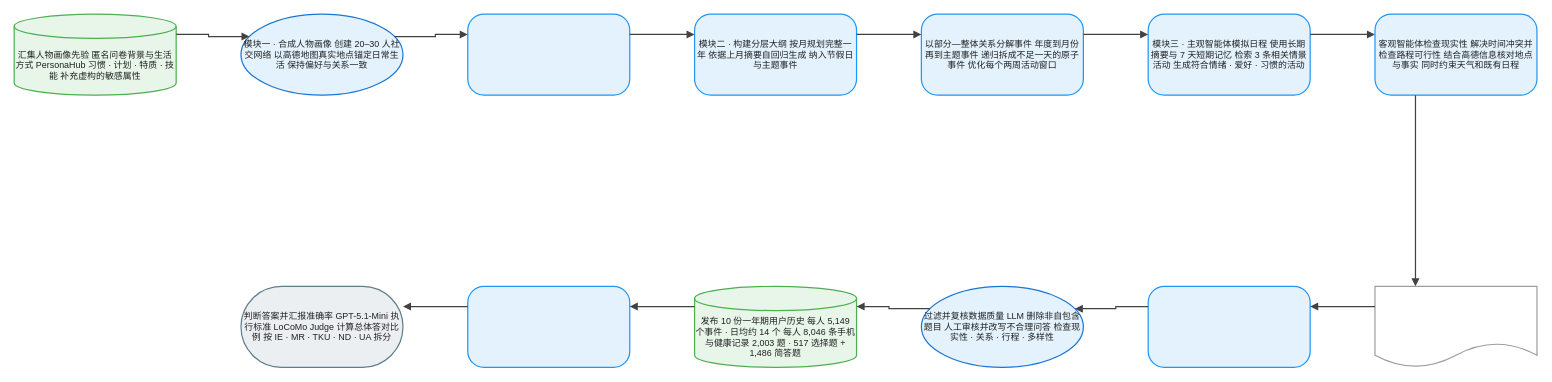
Some shapes in this 1552 by 382 pixel diagram are drawn without their labels. The shapes that lost their labels are listed below. From the top down, each one's box as (x1, y1, x2, y2) in pixels, then its label:
(467, 13, 630, 95): 选择个性化年度情节 从 7 类约 50 个候选情节出发 至多选择 10 条相容情节线 结合画像与日历上下文
(467, 285, 630, 368): 规范化并评测记忆系统 将数据痕迹摘要为 LoCoMo 格式 GPT-5.1-Mini 负责记忆与作答 使用 text-embedding-3-small 检索
(1147, 285, 1310, 368): 模块五 · 生成带时间戳问答 在日常模拟期间动态生成问题 对可回答性缺口补充手机数据 形成选择题与简答题
(1374, 285, 1537, 368): 模块四 · 生成多源数据痕迹 联系人 · 短信 · 通话 · 推送 · 照片 备忘录 · 日历 · 智能体聊天 · 噪声 补充健康与运动记录
